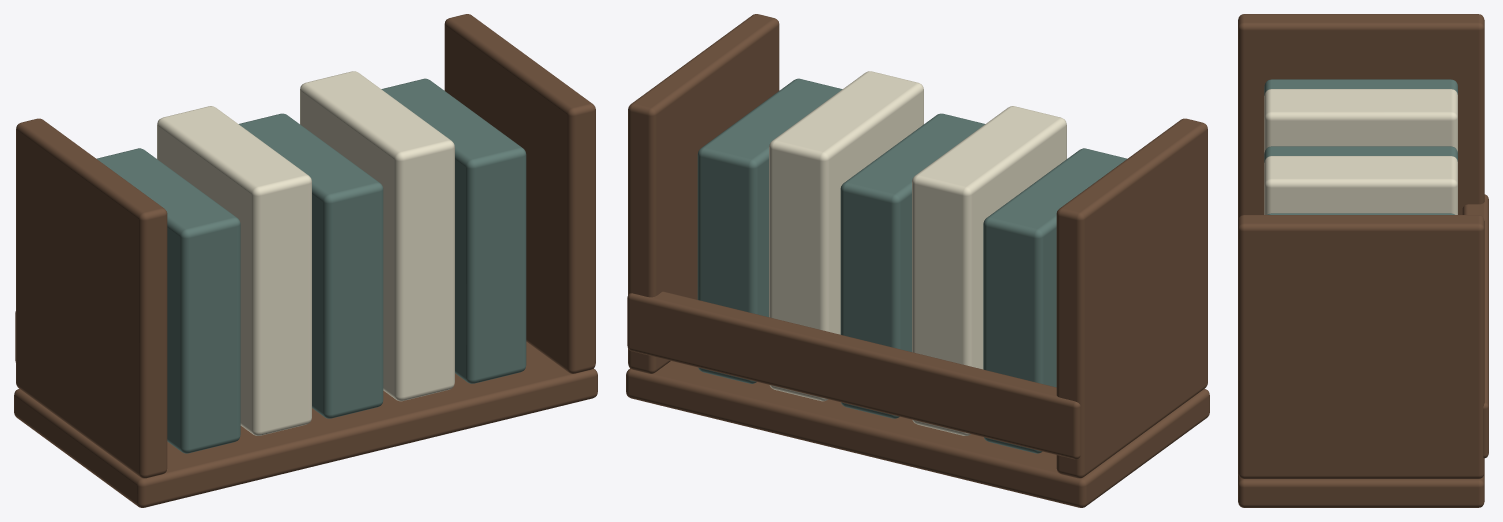
File: abandoned-telephone-exchange-directory-book-rack-880a1ce8__31987.glb
3 renders of one model, left to right at view 1: azimuth 30°, elevation 25°; view 2: azimuth 150°, elevation 25°; view 3: azimuth 270°, elevation 25°, orthographic. The views are drawn at different scales.
Visible parts, largest first — view 1: directory-book-rack; view 2: directory-book-rack; view 3: directory-book-rack.
Boxes of the visible parts, x1,y1,x2,y2 form: directory-book-rack: (14,14,597,507); directory-book-rack: (626,14,1209,507); directory-book-rack: (1238,14,1488,507).
Bounding box in the file's own units: 0.58 × 0.355 × 0.285.
